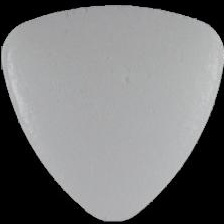23155-044: (0, 0, 224, 224)
